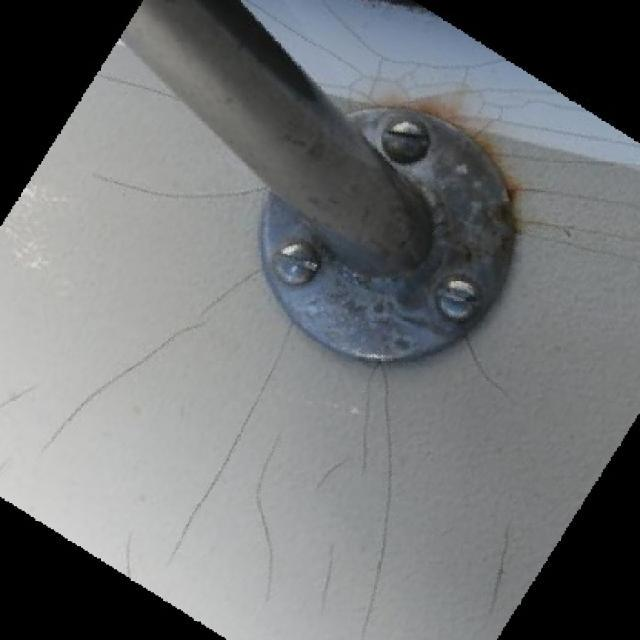crack: (47, 267, 258, 458), (163, 318, 303, 563), (353, 378, 395, 640), (89, 170, 272, 201), (255, 416, 284, 604), (464, 346, 515, 412)
